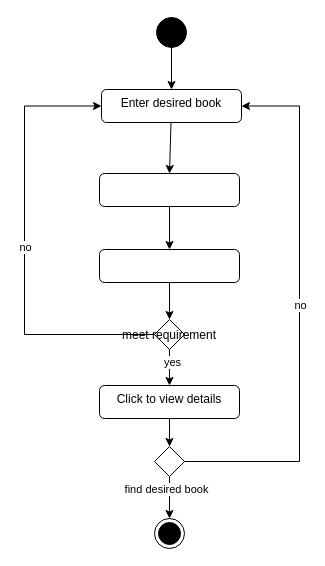
Some shapes in this 325 by 566 pixel diagram are drawn without their labels. The centre of each missing label's shape, as x and y in pixels:
Choose criteria: point (169, 189)
Click "search": point (169, 265)
